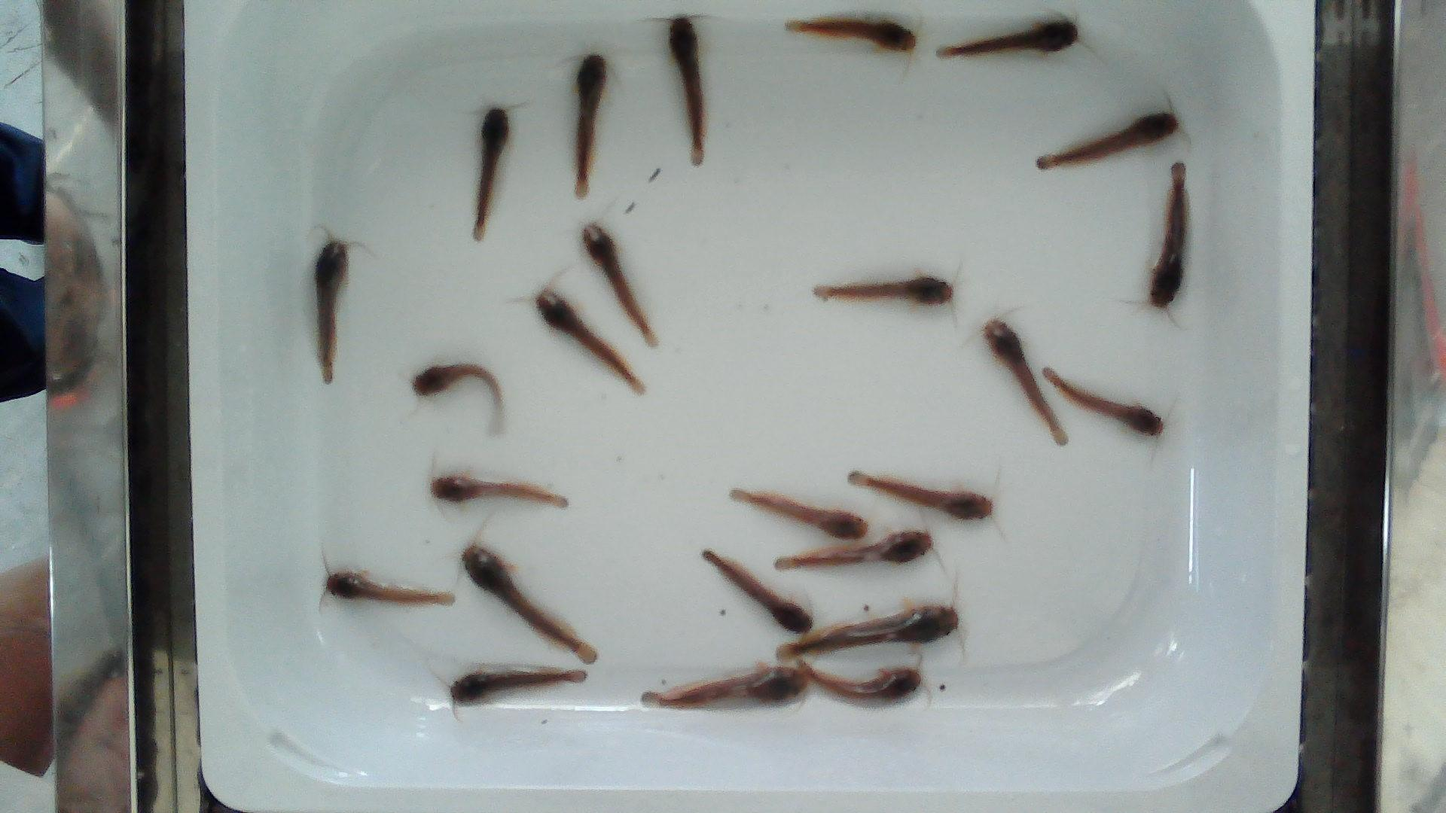lele: (462, 544, 596, 663), (536, 289, 644, 394), (984, 318, 1066, 445), (702, 549, 813, 635), (583, 224, 657, 346), (790, 603, 959, 653), (1043, 369, 1163, 437), (1039, 113, 1179, 169), (642, 663, 813, 708), (849, 470, 993, 519), (731, 490, 868, 540), (1147, 163, 1188, 315), (792, 661, 922, 706), (786, 17, 916, 59), (669, 19, 705, 167), (451, 665, 587, 703), (413, 363, 502, 415), (430, 474, 568, 507), (326, 571, 454, 605), (576, 55, 606, 196), (477, 107, 509, 236), (814, 276, 953, 305), (777, 540, 931, 566), (316, 242, 345, 380), (941, 30, 1078, 54), (443, 99, 450, 106), (1306, 156, 1308, 161)
